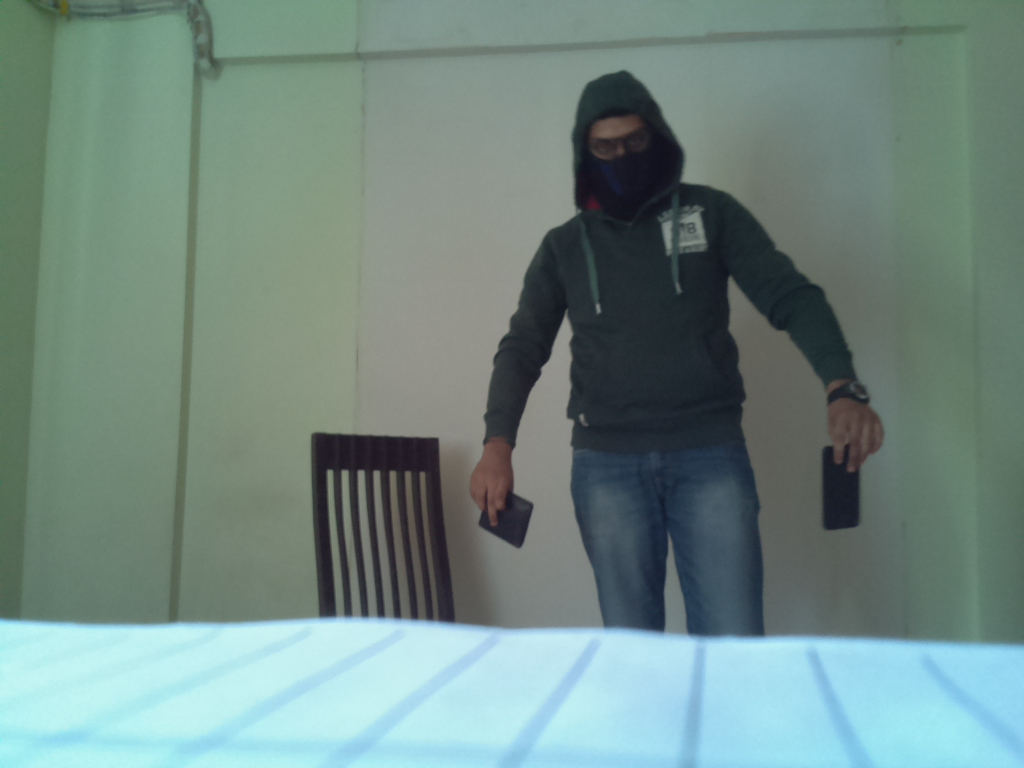none2: (816, 431, 870, 542), (467, 488, 536, 553), (834, 380, 886, 404)
